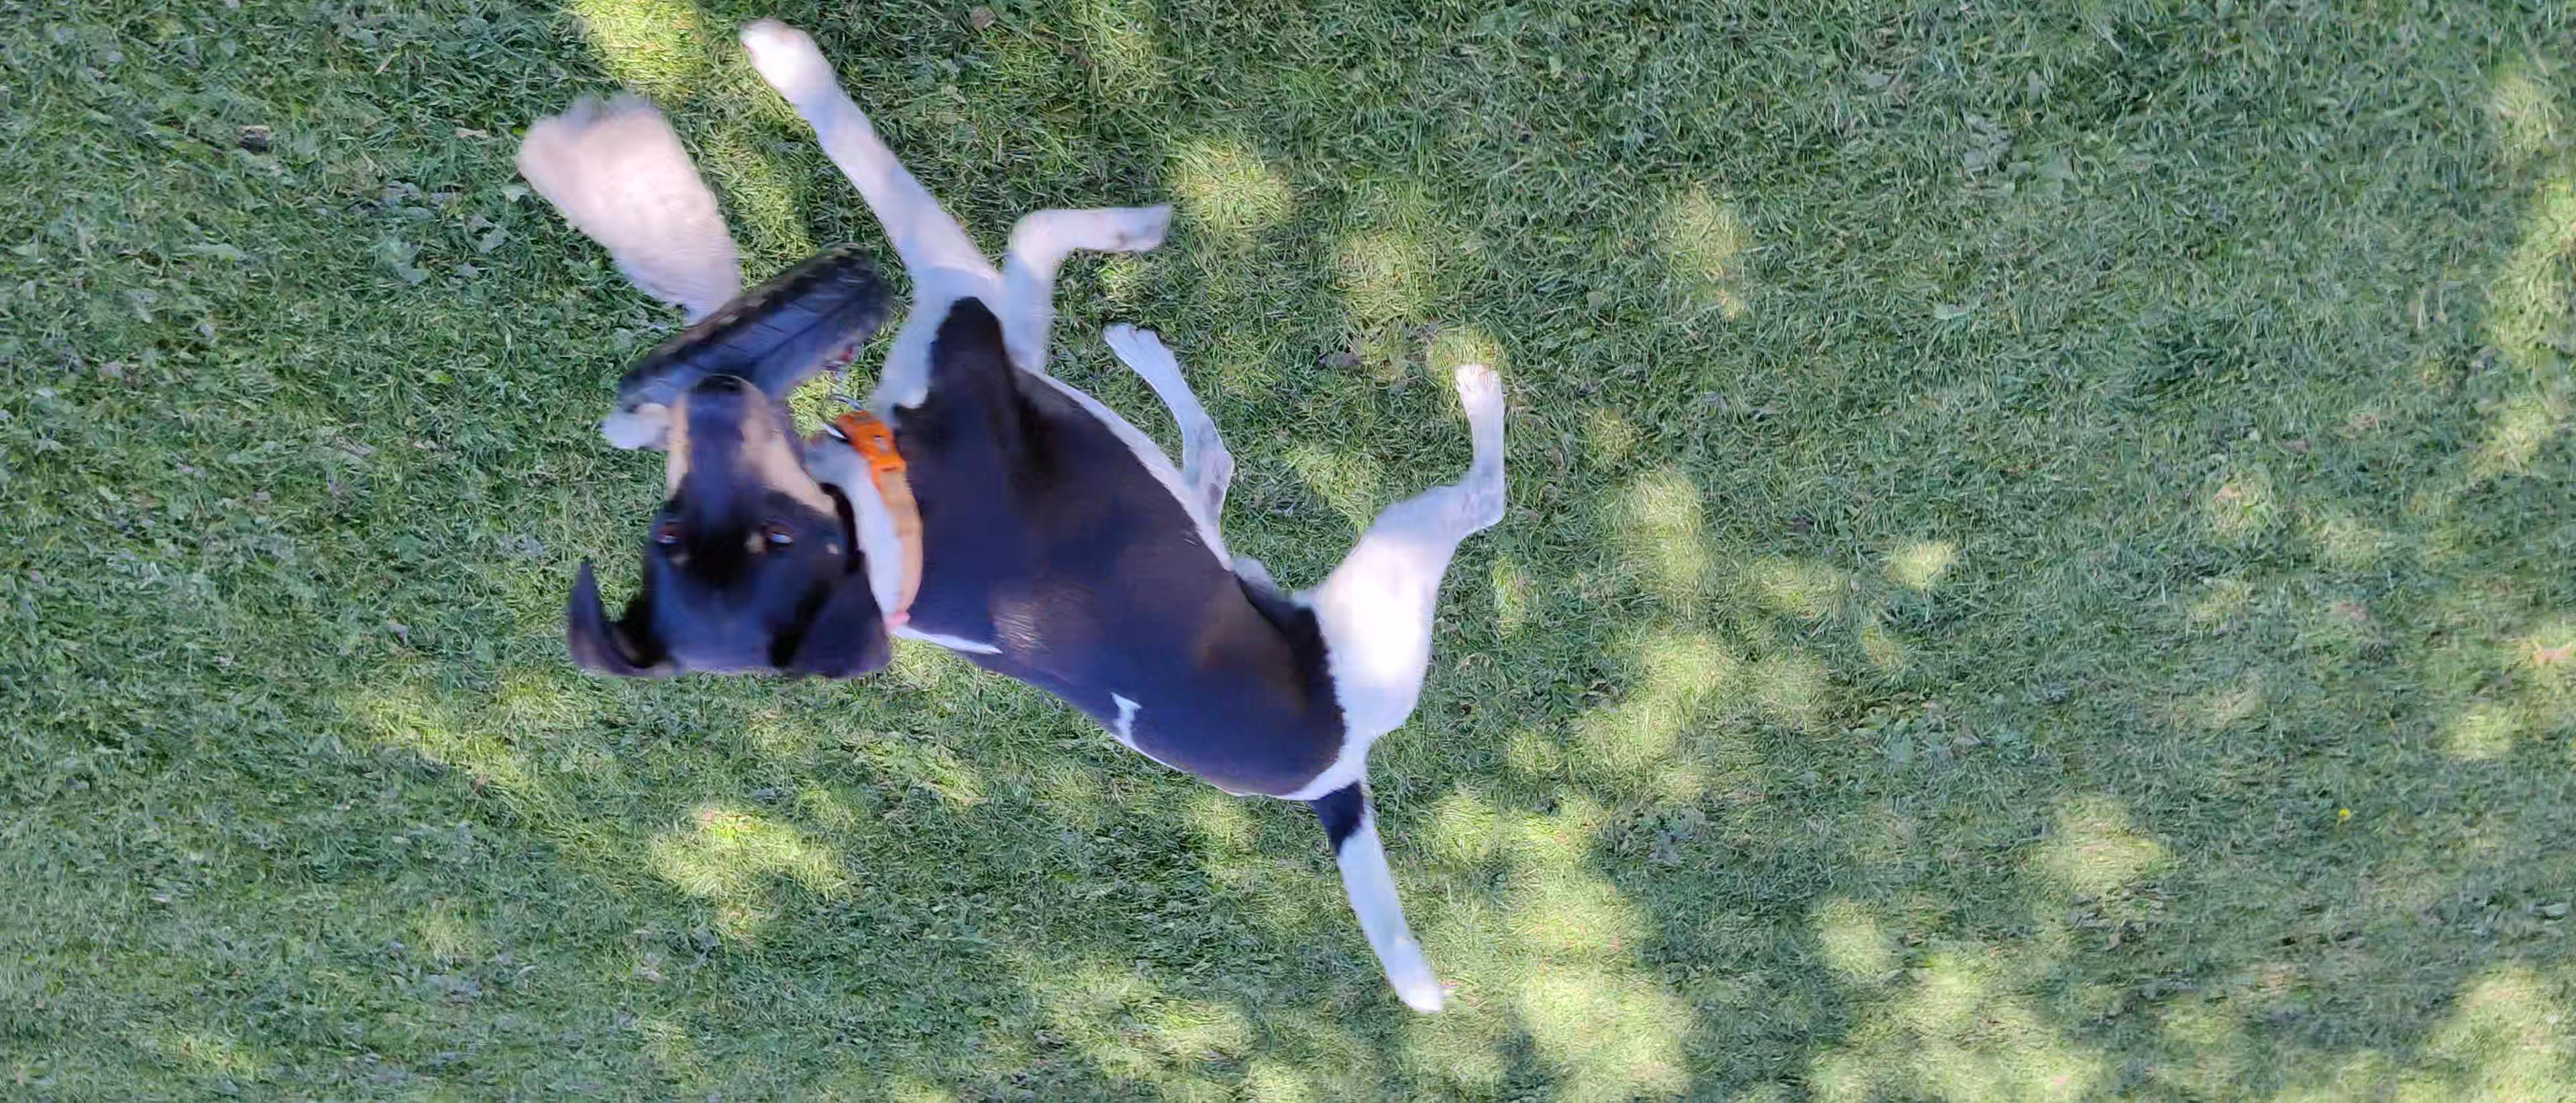Dog: (471, 10, 1536, 1026)
